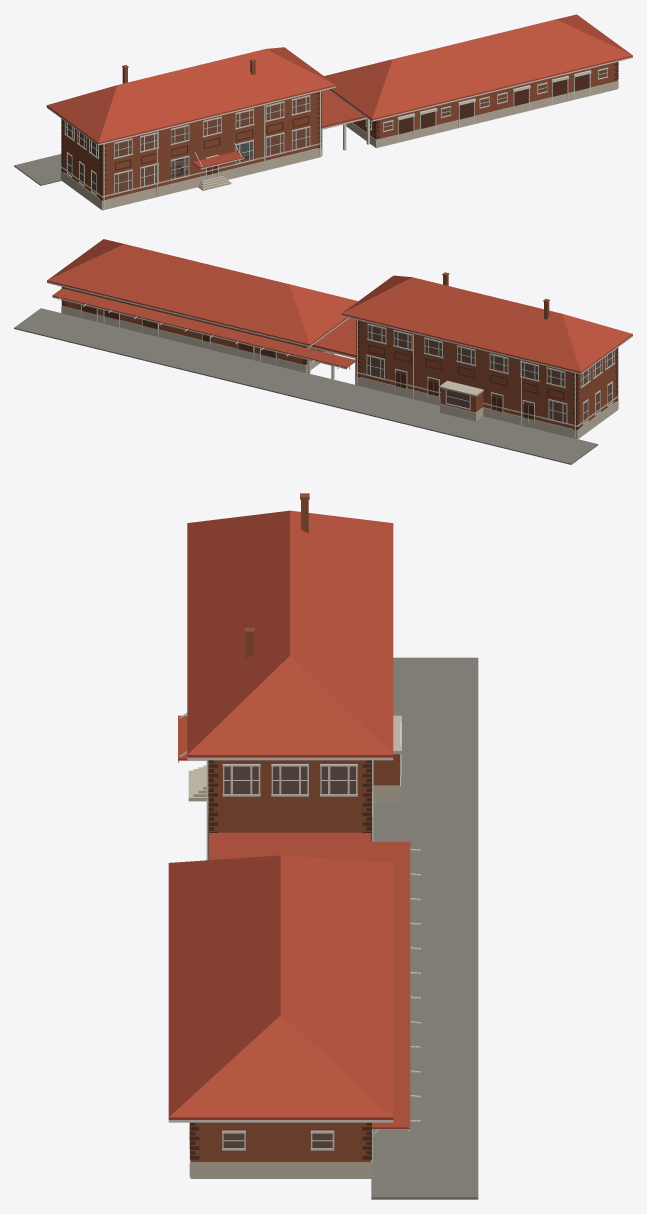
The model's file is La_Crosse_Depot_1974.glb.
3 renders of one model, top to bottom at view 1: azimuth 30°, elevation 25°; view 2: azimuth 150°, elevation 25°; view 3: azimuth 270°, elevation 25°, orthographic. The views are drawn at different scales.
Parts seen in each view (by area): view 1: roof, brick, stone, glass, sash, trim, doors, platform, foundation; view 2: roof, platform, brick, stone, trim, glass, sash, doors; view 3: roof, platform, brick, stone, glass, sash, trim, doors.
Part boxes in pixels (x1,y1,x2,y2): roof: (46, 14, 632, 168); brick: (61, 62, 617, 199); stone: (61, 80, 618, 209); glass: (65, 69, 606, 193); sash: (64, 67, 608, 195); trim: (46, 57, 632, 208); doors: (61, 61, 618, 200); platform: (14, 154, 61, 185); foundation: (61, 88, 617, 210); roof: (47, 239, 632, 372); platform: (14, 308, 598, 464); brick: (62, 287, 617, 428); stone: (61, 306, 618, 438); trim: (47, 282, 632, 437); glass: (367, 325, 613, 422); sash: (366, 323, 615, 424); doors: (61, 287, 618, 429); roof: (168, 510, 410, 1128); platform: (371, 657, 478, 1199); brick: (190, 754, 399, 1162); stone: (188, 715, 401, 1177); glass: (224, 767, 355, 1147); sash: (189, 721, 401, 1150); trim: (168, 713, 420, 1157); doors: (190, 760, 371, 1159).
Size of the model in its own units: 2.76 by 0.5507 by 0.6695.
